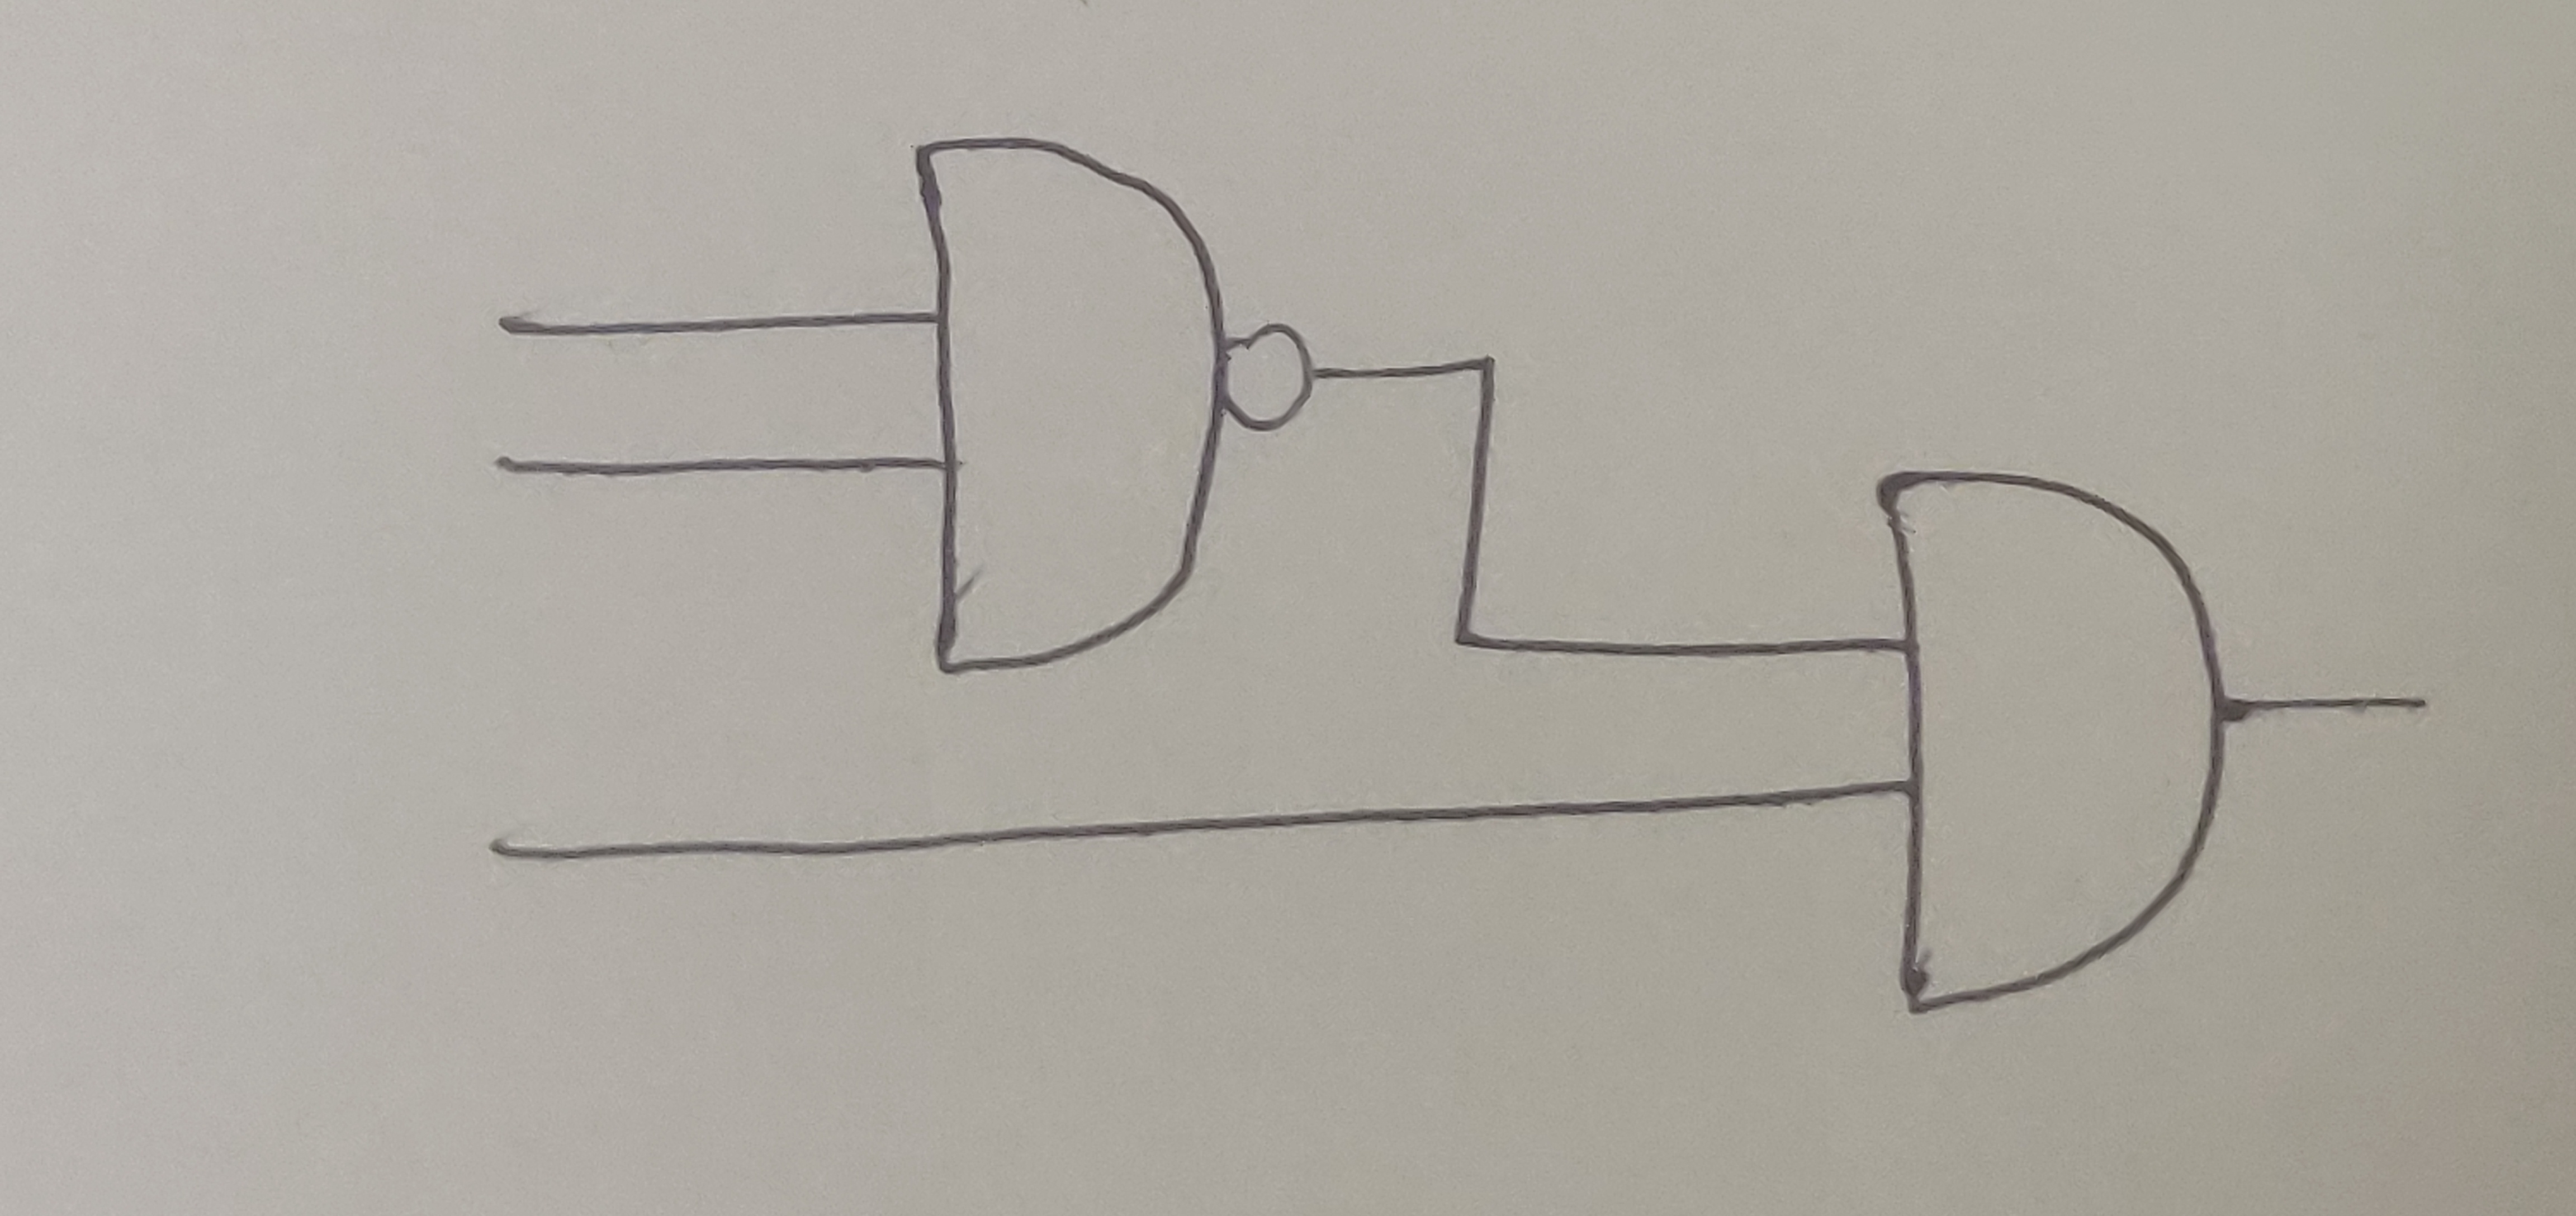and: (1876, 470, 2224, 1012), (917, 131, 1219, 677)
not: (1226, 329, 1304, 437)
